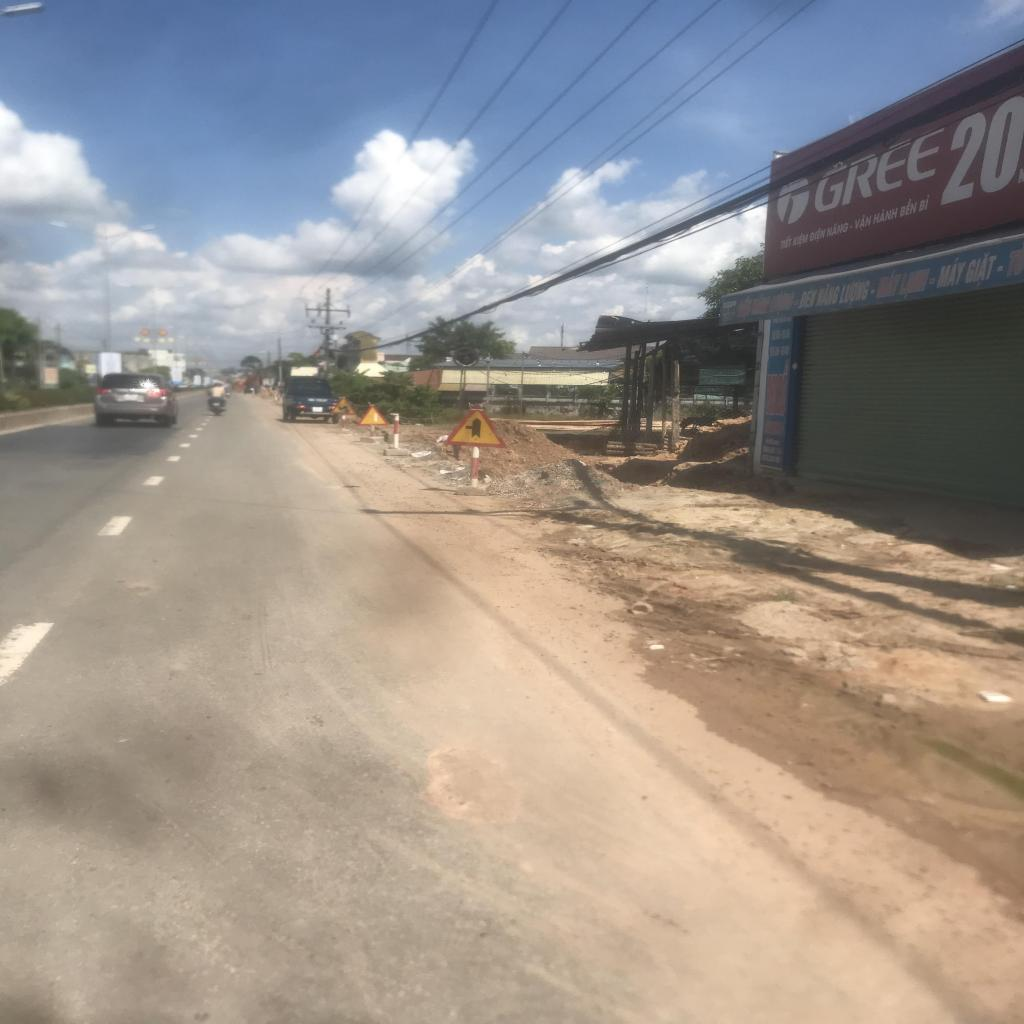cho_ngoat_nguy_hiem_lien_tiep: (329, 396, 357, 416)
giao_nhau_voi_duong_khong_uu_tien: (442, 403, 509, 447)
khac: (356, 404, 389, 426)
